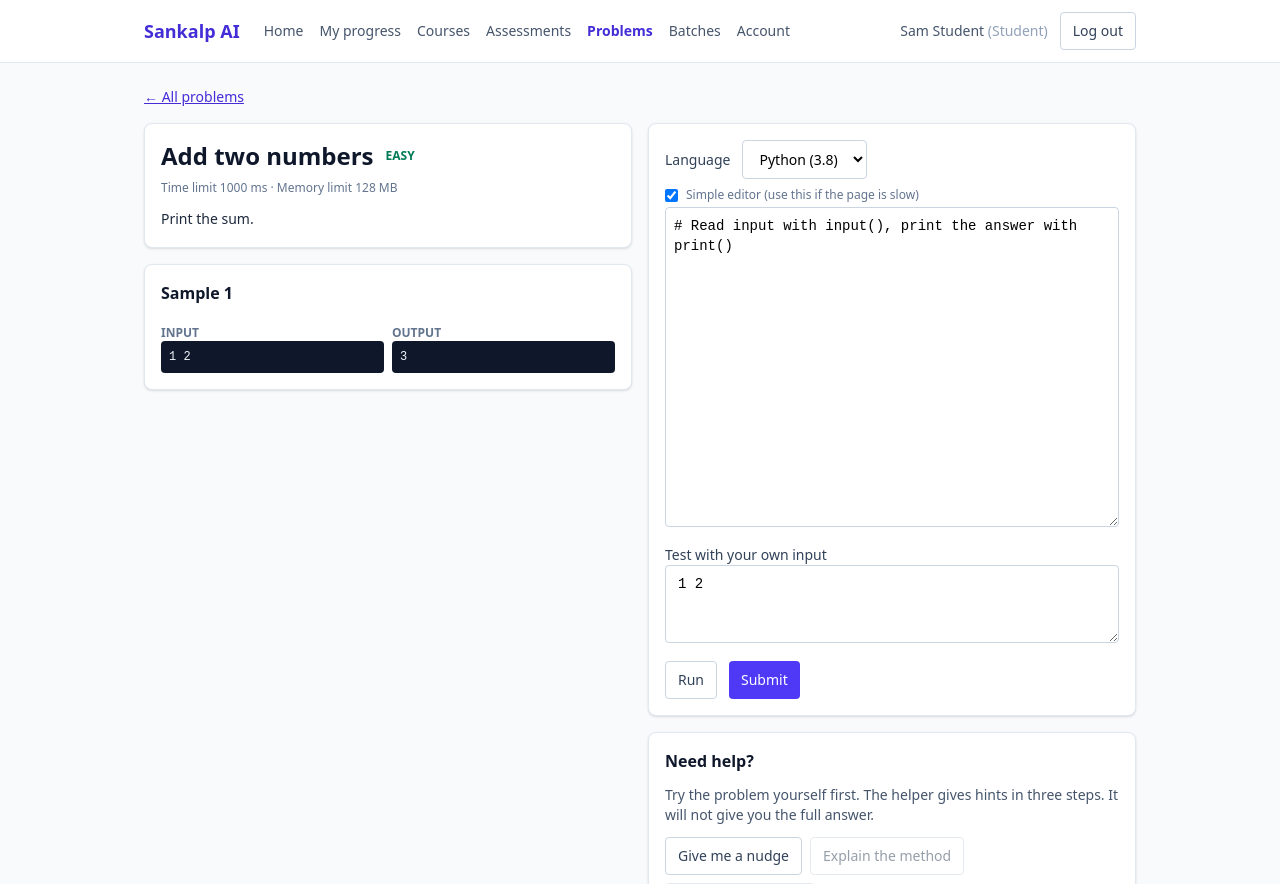
it: AI helper panel › shows the server's message and refreshes the real numbers when a request is refused
The width and height of the screenshot is (1280, 884).
Click the button "Give me a nudge": (734, 856) [665,837,802,875]
(page scrolled)
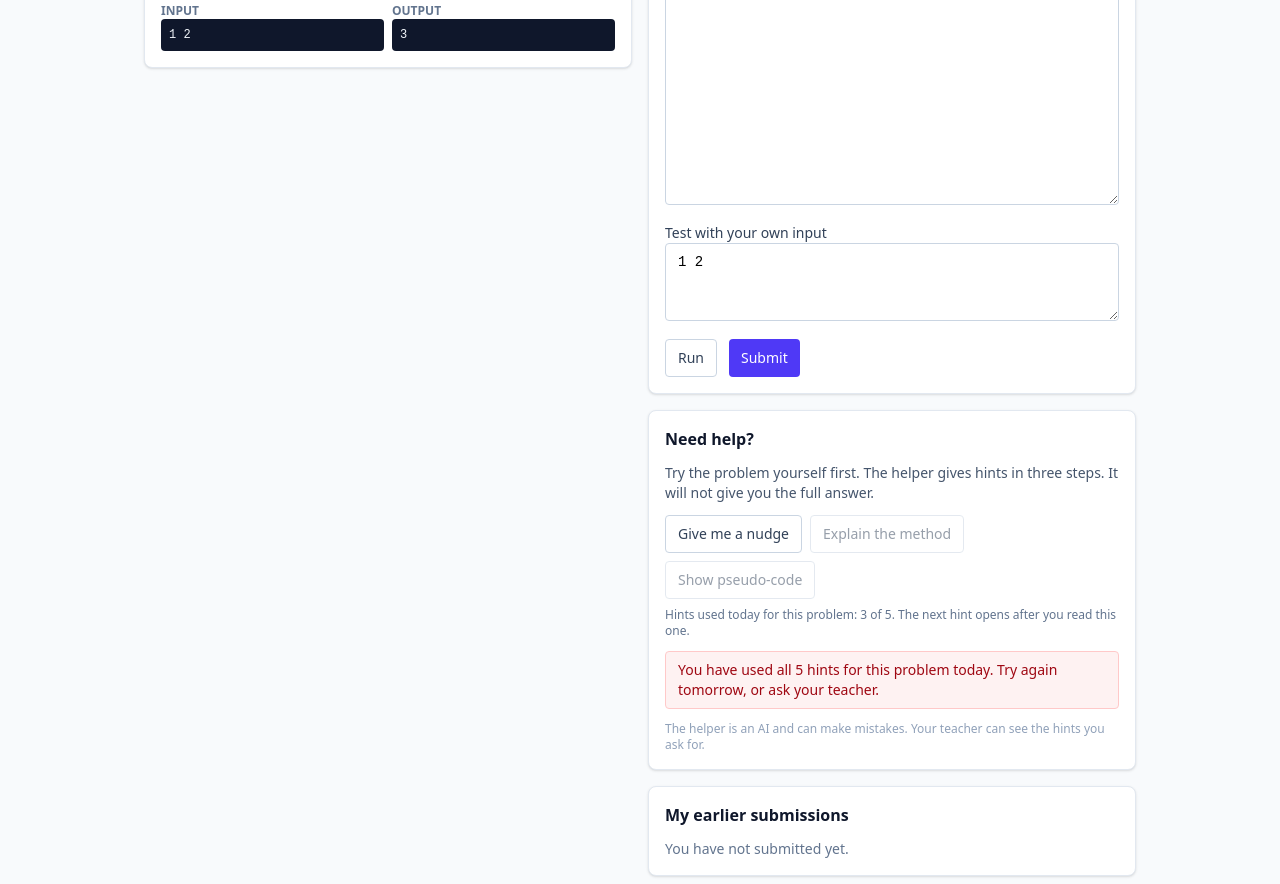
Check: the message shows "used all 5 hints", box [678,660,1057,699]
Check: the text "Hints used today for this problem: 3 of 5" is shown, box [665,607,1119,639]
